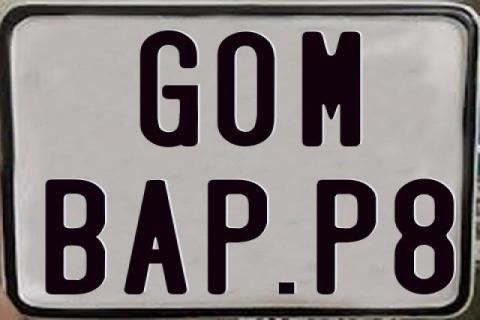0: (214, 29, 275, 149), (393, 178, 453, 298)
A: (125, 180, 193, 298)
B: (44, 178, 104, 294)
G: (140, 29, 201, 149)
M: (300, 30, 361, 148)
P: (206, 178, 266, 298), (315, 179, 376, 296)
